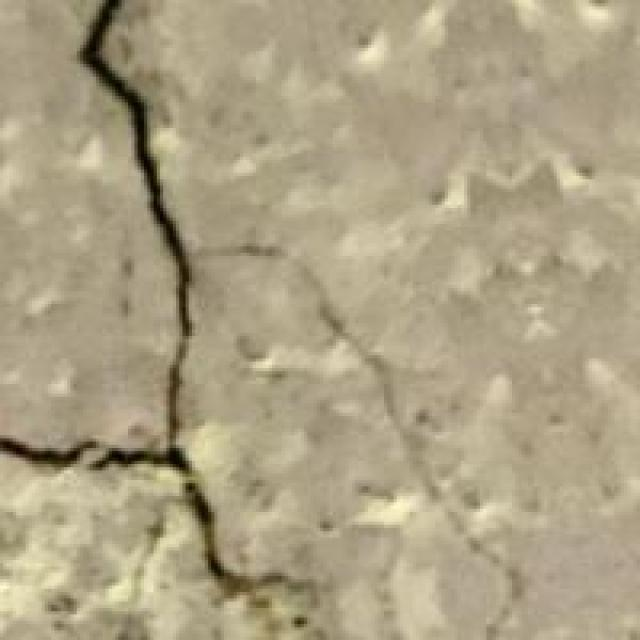crack: (6, 0, 253, 627)
